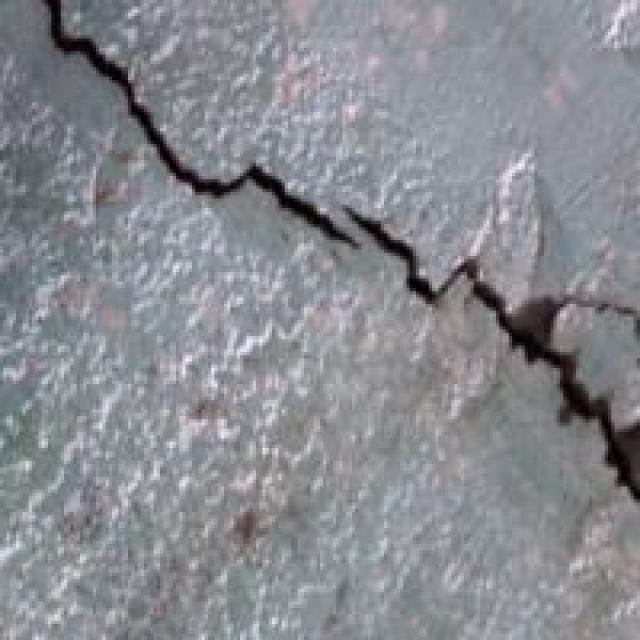Crack: (22, 0, 636, 502)
